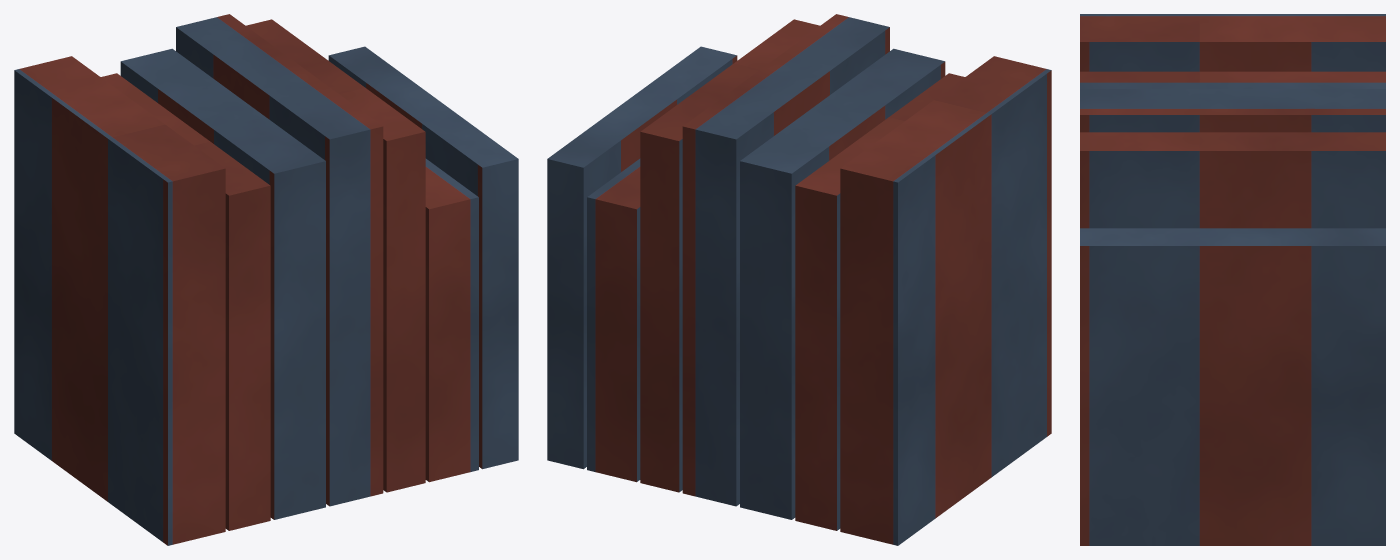
The model's file is BookGroup_Small_1.gltf.
3 views of the same model, side by side, from view 1: azimuth 30°, elevation 25°; view 2: azimuth 150°, elevation 25°; view 3: azimuth 270°, elevation 25° (orthographic).
Parts seen in each view (by area): view 1: BookGroup_Small_1; view 2: BookGroup_Small_1; view 3: BookGroup_Small_1.
Part boxes in pixels (x1,y1,x2,y2): BookGroup_Small_1: [14, 14, 518, 545]; BookGroup_Small_1: [547, 14, 1051, 545]; BookGroup_Small_1: [1080, 14, 1385, 545].
Bounding box in the file's own units: 0.29 × 0.29 × 0.22.
Materials: 1 (1 with a texture image).
